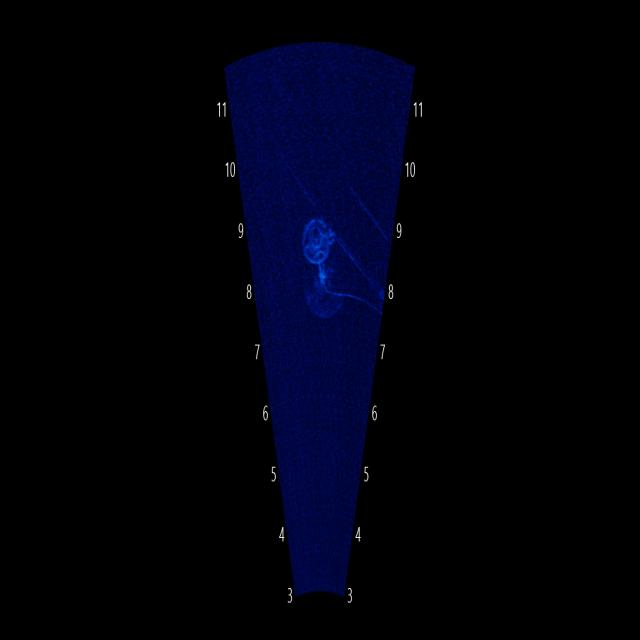circle: (291, 196, 345, 281)
